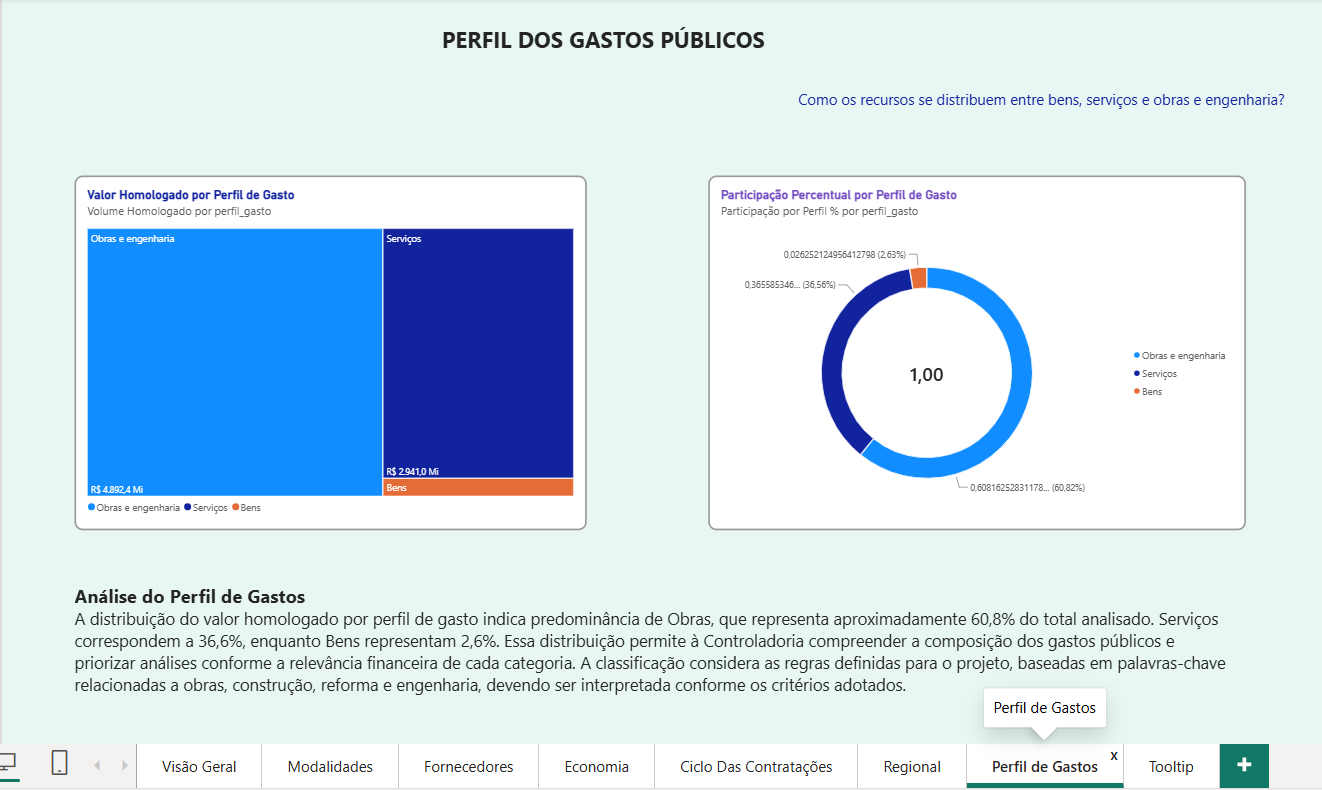

The page's visual inventory and layout, read from the dashboard file:
{"tool":"powerbi","page":{"name":"Perfil de Gastos","canvas":[1920,1080],"ordinal":7},"visuals":[{"type":"treemap","title":"Valor Homologado por Perfil de Gasto ","fields":{"Group":["pncp_controladoria fato_item_contratado.perfil_gasto"],"Values":["Medidas.Volume Homologado"]},"box":[105,257,742,513.9],"z":0},{"type":"donutChart","title":"Participação Percentual por Perfil de Gasto","fields":{"Category":["pncp_controladoria fato_item_contratado.perfil_gasto"],"Y":["Medidas.Participação por Perfil %"]},"box":[1022.5,257,778.2,513.9],"z":1000},{"type":"textbox","box":[105,846.9,1677.6,168.3],"z":2000},{"type":"textbox","box":[637,38,644.2,59.7],"z":2001},{"type":"textbox","box":[1152.8,132.1,742,54.3],"z":2002}]}

Visuals, with their boxes on the page's 1920x1080 design canvas (x1, y1, x2, y2). These are canvas units, not pixel positions in the 1322x790 screenshot, which may show the page scaled, cropped or inside an application window:
"Valor Homologado por Perfil de Gasto " treemap: l=105, t=257, r=847, b=771
"Participação Percentual por Perfil de Gasto" donutChart: l=1022, t=257, r=1801, b=771
textbox: l=105, t=847, r=1783, b=1015
textbox: l=637, t=38, r=1281, b=98
textbox: l=1153, t=132, r=1895, b=186
